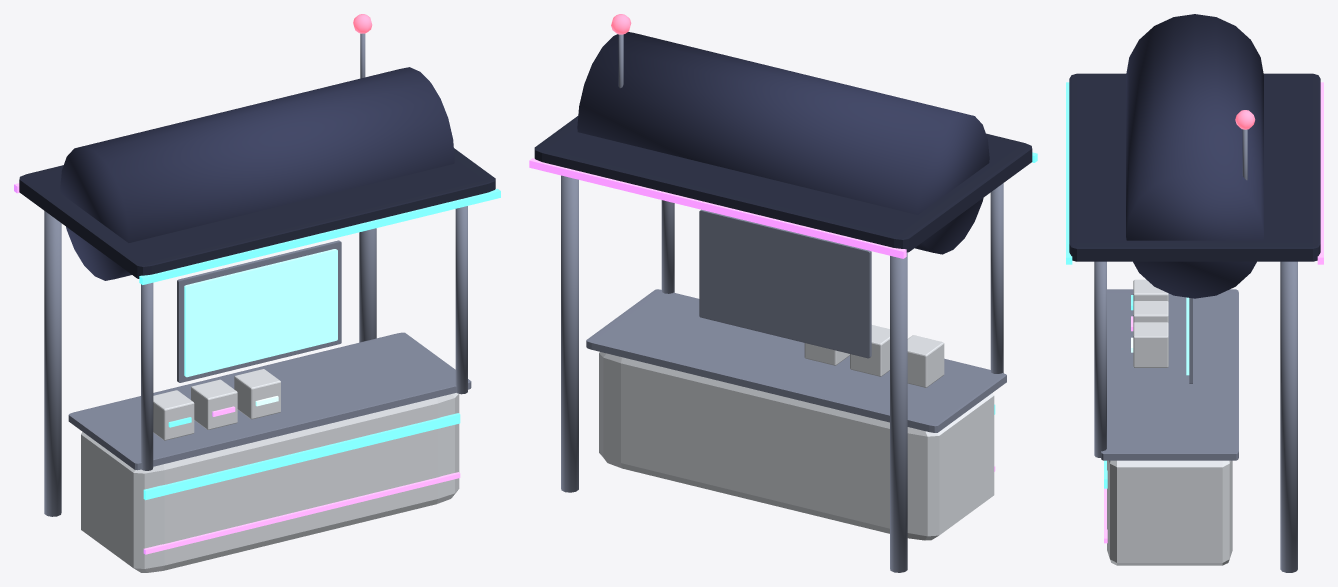
Rendered from stanek-space.glb.
3 views of the same model, side by side, from view 1: azimuth 30°, elevation 25°; view 2: azimuth 150°, elevation 25°; view 3: azimuth 270°, elevation 25° (orthographic). The views are drawn at different scales.
Visible parts, largest first — view 1: stanek-space; view 2: stanek-space; view 3: stanek-space.
Part boxes in pixels (x1,y1,x2,y2): stanek-space: (14, 14, 500, 572); stanek-space: (529, 14, 1037, 572); stanek-space: (1066, 14, 1323, 572).
Bounding box in the file's own units: 3.3 × 3.91 × 2.05.
8 materials, 8 textured.
